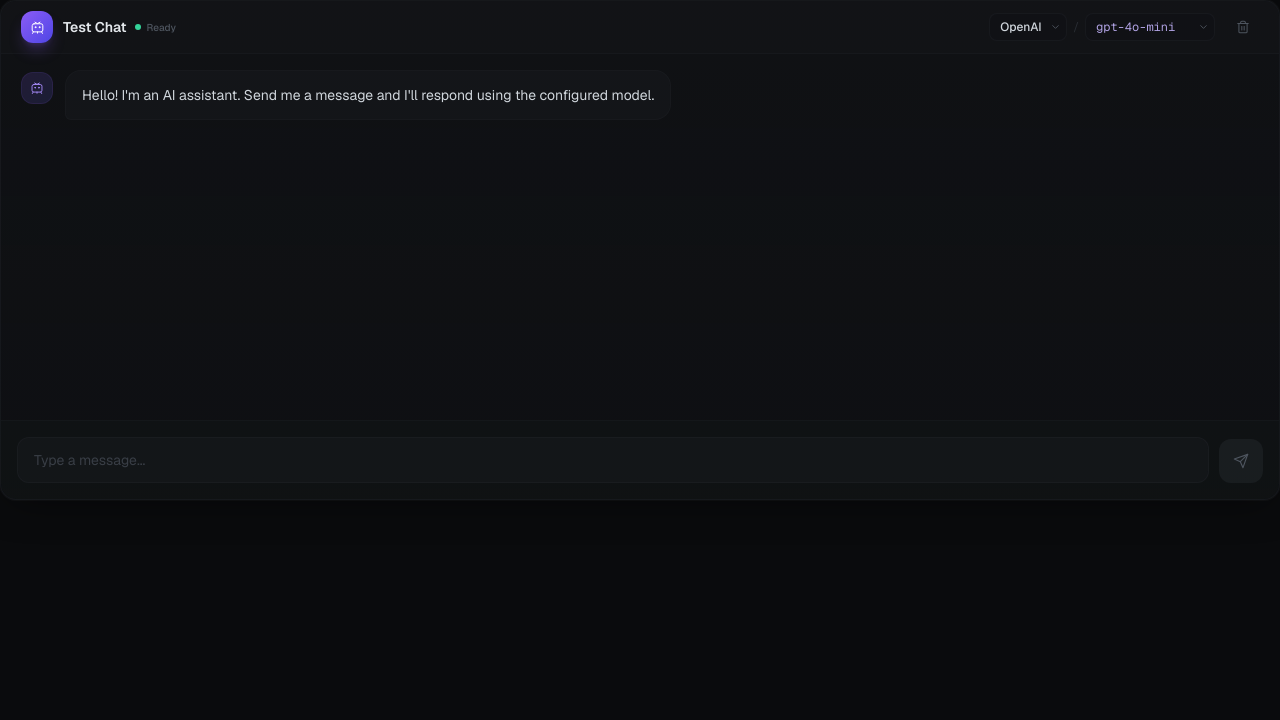
Test: ChatInterface › sends a message and renders the assistant reply
Type "hello" into the text box with placeholder "Type a message..." at (613, 460), box x1=17 y1=437 x2=1209 y2=483
Then press Enter
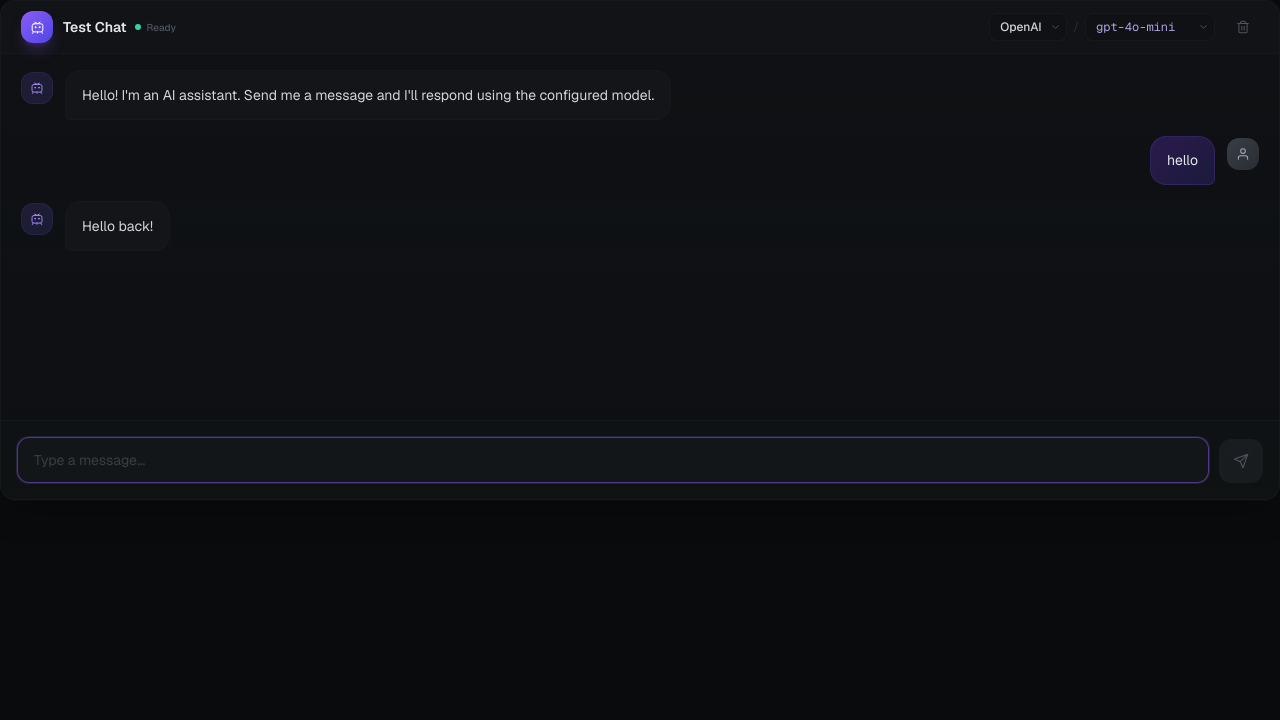
Now the text "Hello back!" is shown, box x1=82 y1=214 x2=153 y2=238
